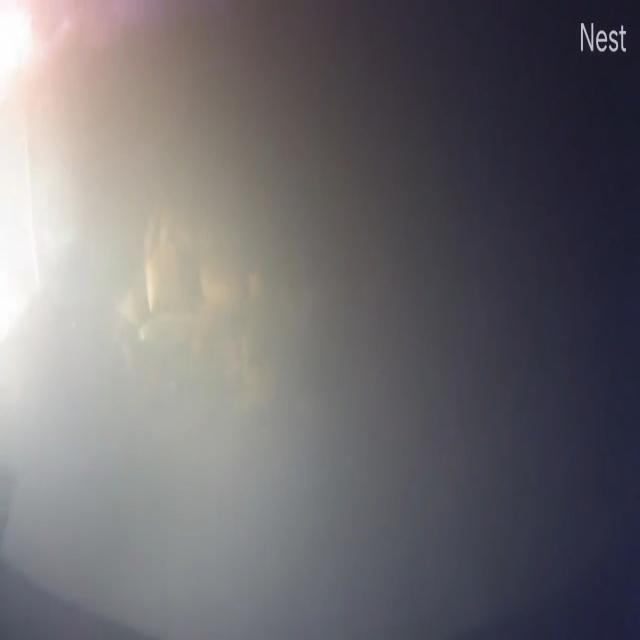Fire: (3, 16, 88, 188)
